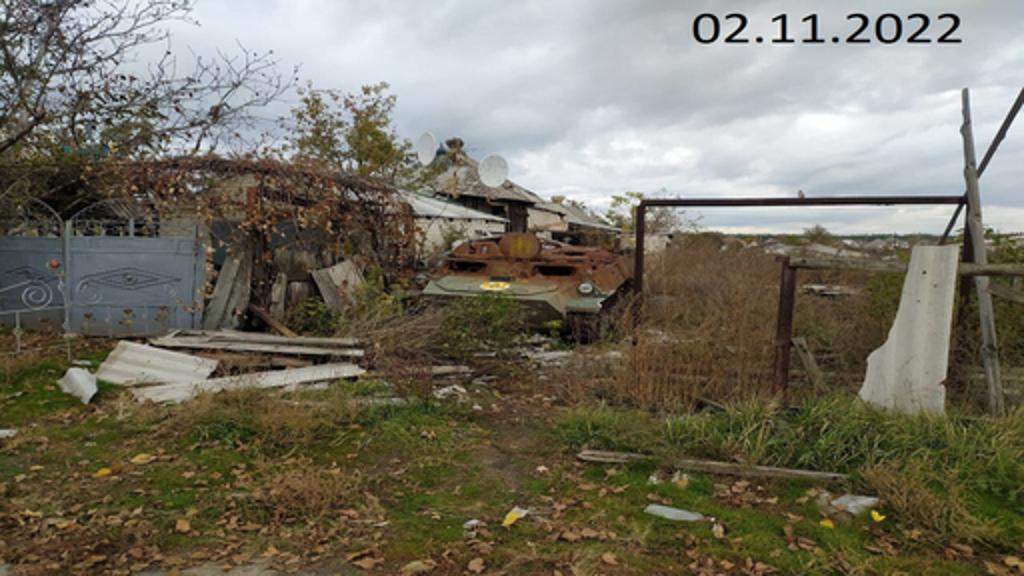APC-IFV: (404, 212, 642, 342)
